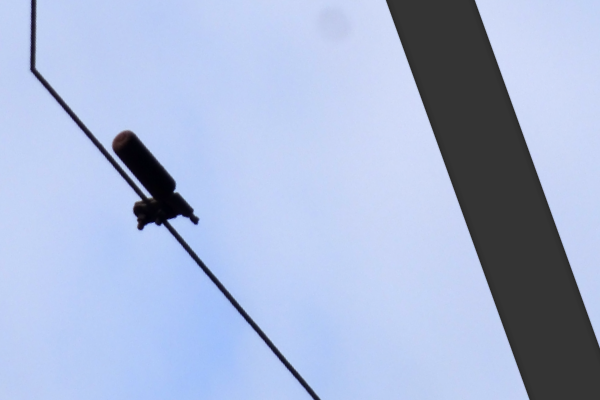damper_defect: (106, 127, 201, 233)
